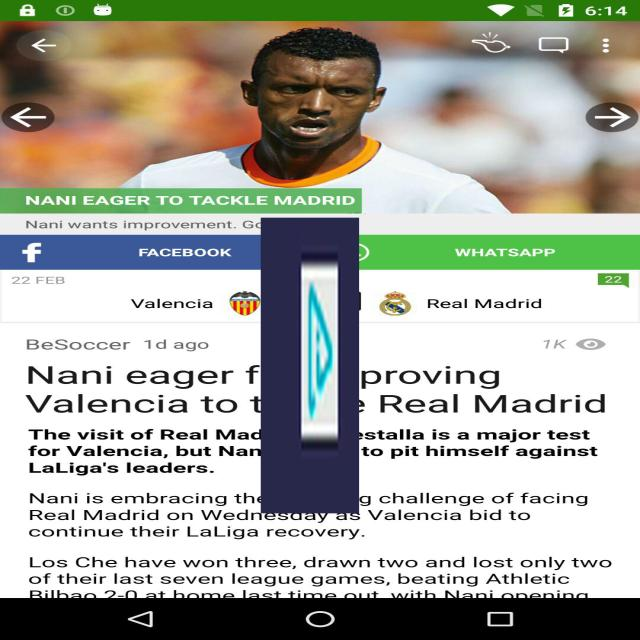sneaking: (261, 218, 359, 513)
